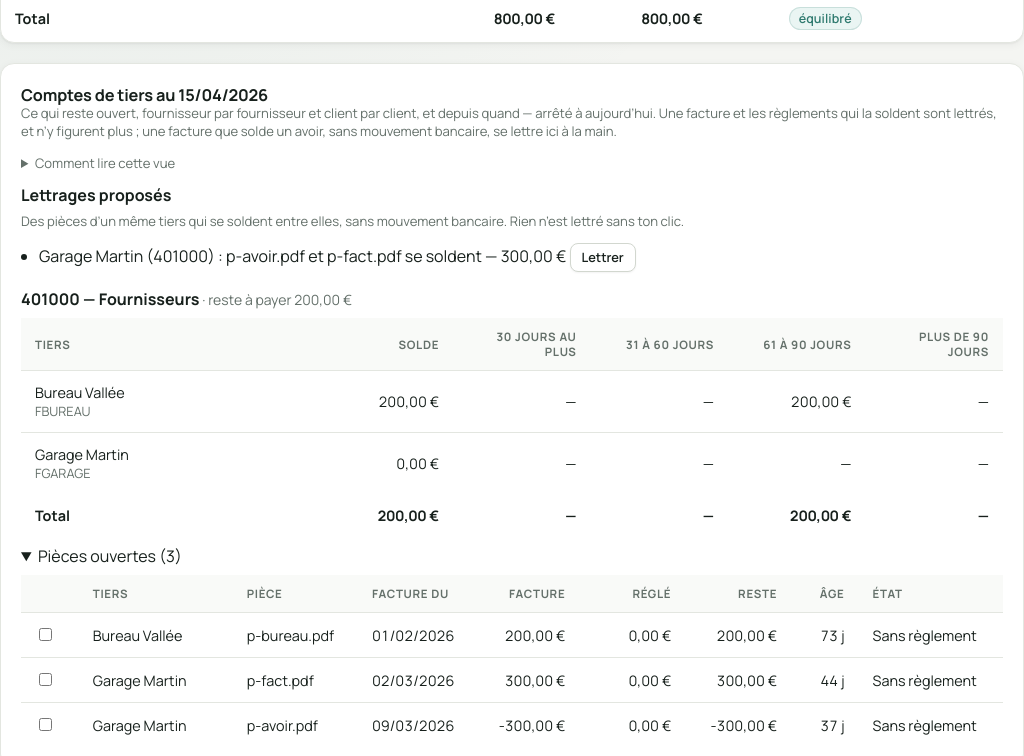
Test: StatistiquesTab — le lettrage fait à la main › dit, sur les pièces cochées, ce qui reste et ce que la base refuserait — sans crier sur la première
(page scrolled)
Expected: the heading "Lettrages proposés" is shown, [21,184,171,206]
Click the checkbox named "Cocher p-fact.pdf" at x=46, y=680, box [39,673,52,686]
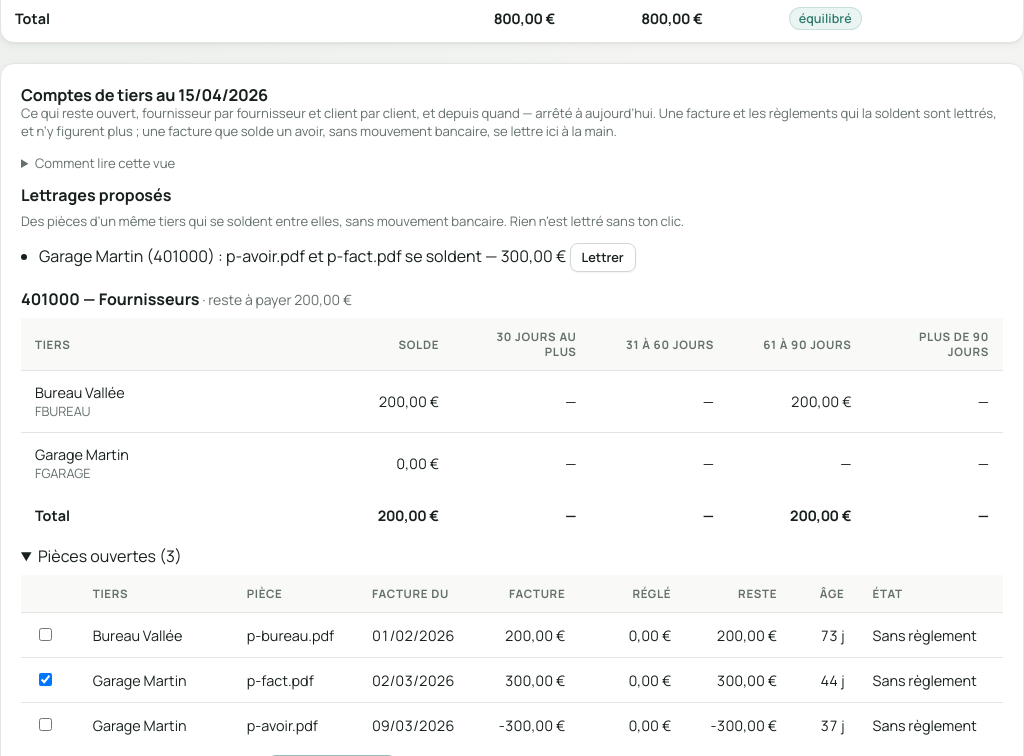
Click the checkbox named "Cocher p-bureau.pdf" at x=46, y=634, box [39,628,52,641]
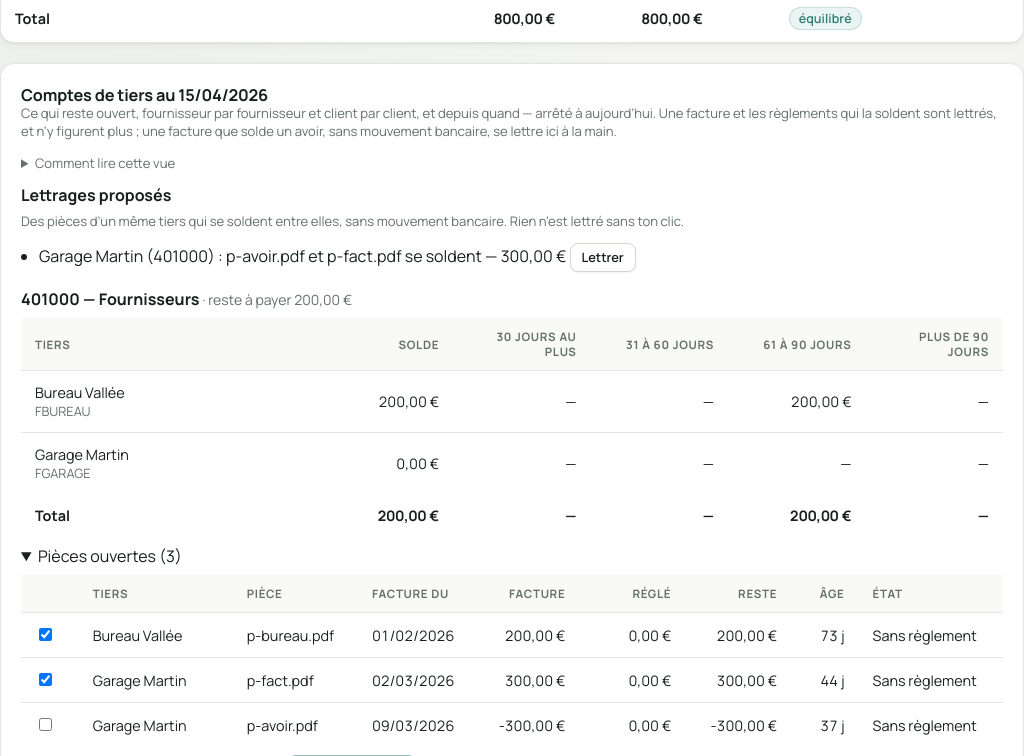
Click the checkbox named "Cocher p-bureau.pdf" at x=46, y=634, box [39,628,52,641]
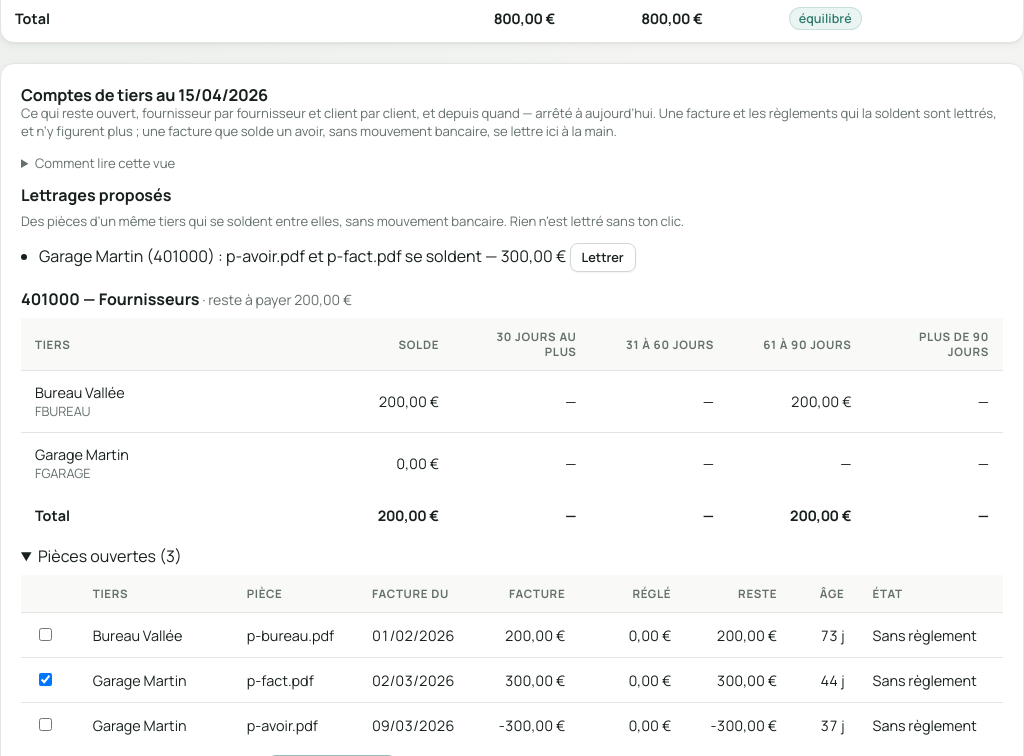
Click the checkbox named "Cocher p-avoir.pdf" at x=46, y=724, box [39,718,52,731]
(page scrolled)
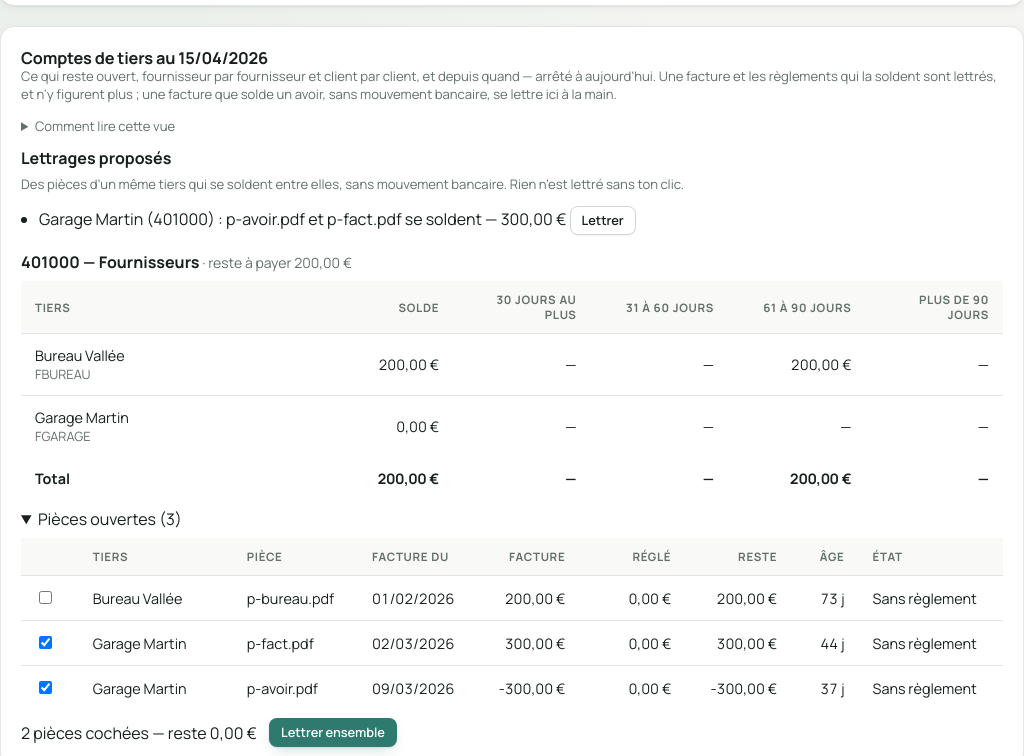
Now the text "2 pièces cochées — reste 0,00 €" is shown, box [21,722,257,744]
Now the button "Lettrer ensemble" is enabled, box [269,718,397,747]
